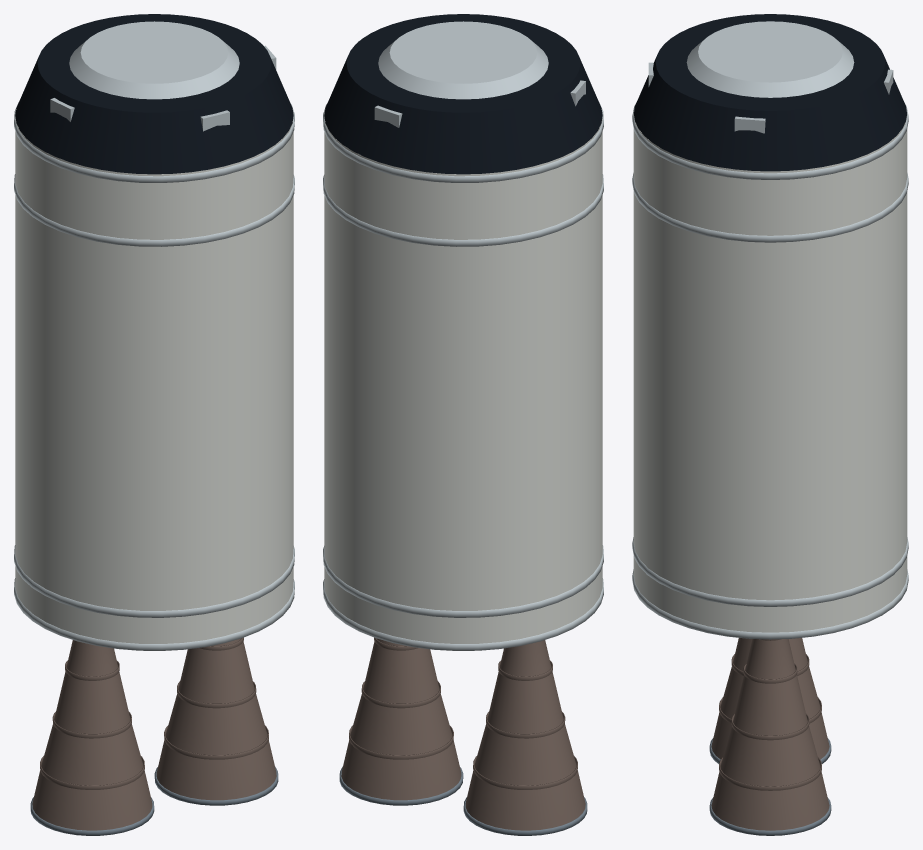
Rendered from titan_centaur.glb.
The picture shows the model from 3 angles, left to right: view 1: azimuth 30°, elevation 25°; view 2: azimuth 150°, elevation 25°; view 3: azimuth 270°, elevation 25°; orthographic projection.
Parts seen in each view (by area): view 1: titan_centaur.mesh_Pale_thermal_blanket, titan_centaur.equipment_deck.mesh_Shadowed_interior, titan_centaur.rl10_01.bell.mesh_Heat-stained_alloy, titan_centaur.rl10_02.bell.mesh_Heat-stained_alloy, titan_centaur.payload_adapter.mesh_Satin_aluminum, titan_centaur.mesh_Satin_aluminum, titan_centaur.equipment_deck.mesh_Satin_aluminum, titan_centaur.rl10_02.bell.mesh_Machined_steel, titan_centaur.rl10_01.bell.mesh_Machined_steel; view 2: titan_centaur.mesh_Pale_thermal_blanket, titan_centaur.equipment_deck.mesh_Shadowed_interior, titan_centaur.rl10_01.bell.mesh_Heat-stained_alloy, titan_centaur.rl10_02.bell.mesh_Heat-stained_alloy, titan_centaur.payload_adapter.mesh_Satin_aluminum, titan_centaur.mesh_Satin_aluminum, titan_centaur.rl10_02.bell.mesh_Machined_steel, titan_centaur.rl10_01.bell.mesh_Machined_steel, titan_centaur.equipment_deck.mesh_Satin_aluminum; view 3: titan_centaur.mesh_Pale_thermal_blanket, titan_centaur.equipment_deck.mesh_Shadowed_interior, titan_centaur.rl10_02.bell.mesh_Heat-stained_alloy, titan_centaur.payload_adapter.mesh_Satin_aluminum, titan_centaur.mesh_Satin_aluminum, titan_centaur.rl10_01.bell.mesh_Heat-stained_alloy, titan_centaur.rl10_02.bell.mesh_Machined_steel, titan_centaur.equipment_deck.mesh_Satin_aluminum.
Boxes of the visible parts, <box> form: titan_centaur.mesh_Pale_thermal_blanket: <box>15,109,293,643</box>; titan_centaur.equipment_deck.mesh_Shadowed_interior: <box>15,14,293,174</box>; titan_centaur.rl10_01.bell.mesh_Heat-stained_alloy: <box>32,640,152,830</box>; titan_centaur.rl10_02.bell.mesh_Heat-stained_alloy: <box>156,637,276,800</box>; titan_centaur.payload_adapter.mesh_Satin_aluminum: <box>69,21,239,99</box>; titan_centaur.mesh_Satin_aluminum: <box>14,102,294,650</box>; titan_centaur.equipment_deck.mesh_Satin_aluminum: <box>50,45,276,131</box>; titan_centaur.rl10_02.bell.mesh_Machined_steel: <box>154,766,278,805</box>; titan_centaur.rl10_01.bell.mesh_Machined_steel: <box>30,797,154,835</box>; titan_centaur.mesh_Pale_thermal_blanket: <box>324,109,602,643</box>; titan_centaur.equipment_deck.mesh_Shadowed_interior: <box>324,14,602,174</box>; titan_centaur.rl10_01.bell.mesh_Heat-stained_alloy: <box>465,640,585,830</box>; titan_centaur.rl10_02.bell.mesh_Heat-stained_alloy: <box>341,637,461,800</box>; titan_centaur.payload_adapter.mesh_Satin_aluminum: <box>378,21,548,99</box>; titan_centaur.mesh_Satin_aluminum: <box>323,102,603,650</box>; titan_centaur.rl10_02.bell.mesh_Machined_steel: <box>339,766,463,805</box>; titan_centaur.rl10_01.bell.mesh_Machined_steel: <box>463,797,587,835</box>; titan_centaur.equipment_deck.mesh_Satin_aluminum: <box>358,41,585,127</box>; titan_centaur.mesh_Pale_thermal_blanket: <box>633,104,907,632</box>; titan_centaur.equipment_deck.mesh_Shadowed_interior: <box>634,14,906,171</box>; titan_centaur.rl10_02.bell.mesh_Heat-stained_alloy: <box>711,639,829,830</box>; titan_centaur.payload_adapter.mesh_Satin_aluminum: <box>686,21,854,97</box>; titan_centaur.mesh_Satin_aluminum: <box>632,104,908,639</box>; titan_centaur.rl10_01.bell.mesh_Heat-stained_alloy: <box>711,638,829,759</box>; titan_centaur.rl10_02.bell.mesh_Machined_steel: <box>709,797,831,835</box>; titan_centaur.equipment_deck.mesh_Satin_aluminum: <box>648,62,893,133</box>.
Bounding box in the file's own units: 3.08 × 8.97 × 3.08.
